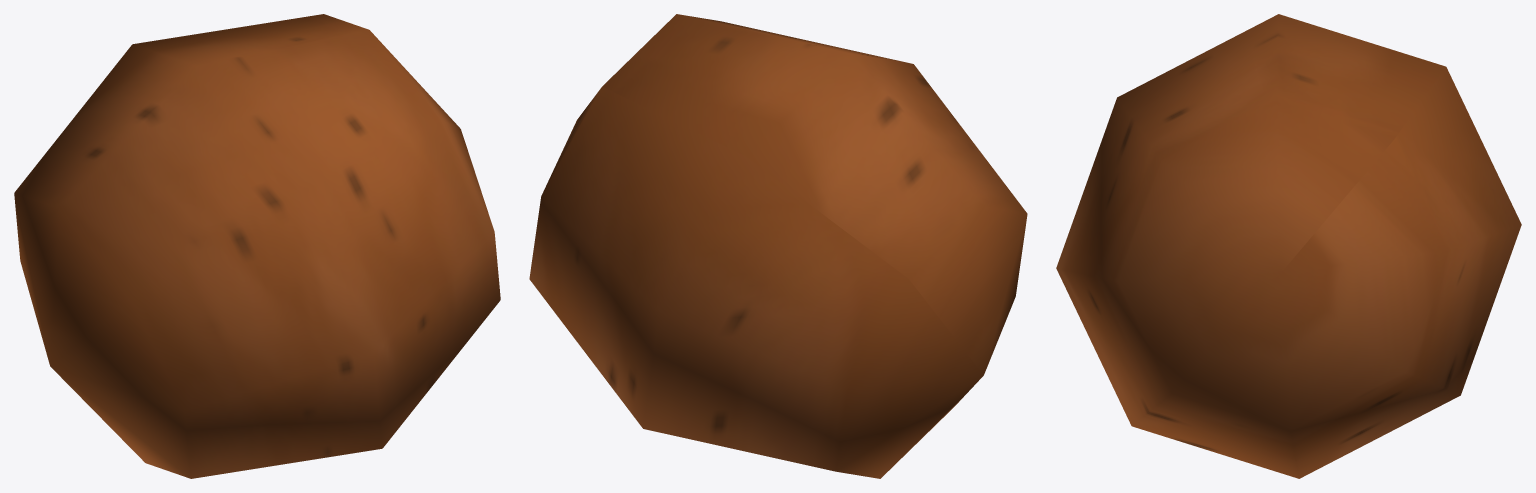
File: SM_PROP_food_potato_02.FBX
3 views of the same model, side by side, from view 1: azimuth 30°, elevation 25°; view 2: azimuth 150°, elevation 25°; view 3: azimuth 270°, elevation 25° (orthographic). The views are drawn at different scales.
Parts seen in each view (by area): view 1: SM_PROP_food_potato_02; view 2: SM_PROP_food_potato_02; view 3: SM_PROP_food_potato_02.
Boxes of the visible parts, x1=… form: SM_PROP_food_potato_02: x1=14, y1=14, x2=500, y2=478; SM_PROP_food_potato_02: x1=529, y1=14, x2=1027, y2=478; SM_PROP_food_potato_02: x1=1056, y1=14, x2=1521, y2=478.
Size of the model in its own units: 12.32 by 12.27 by 11.65.
